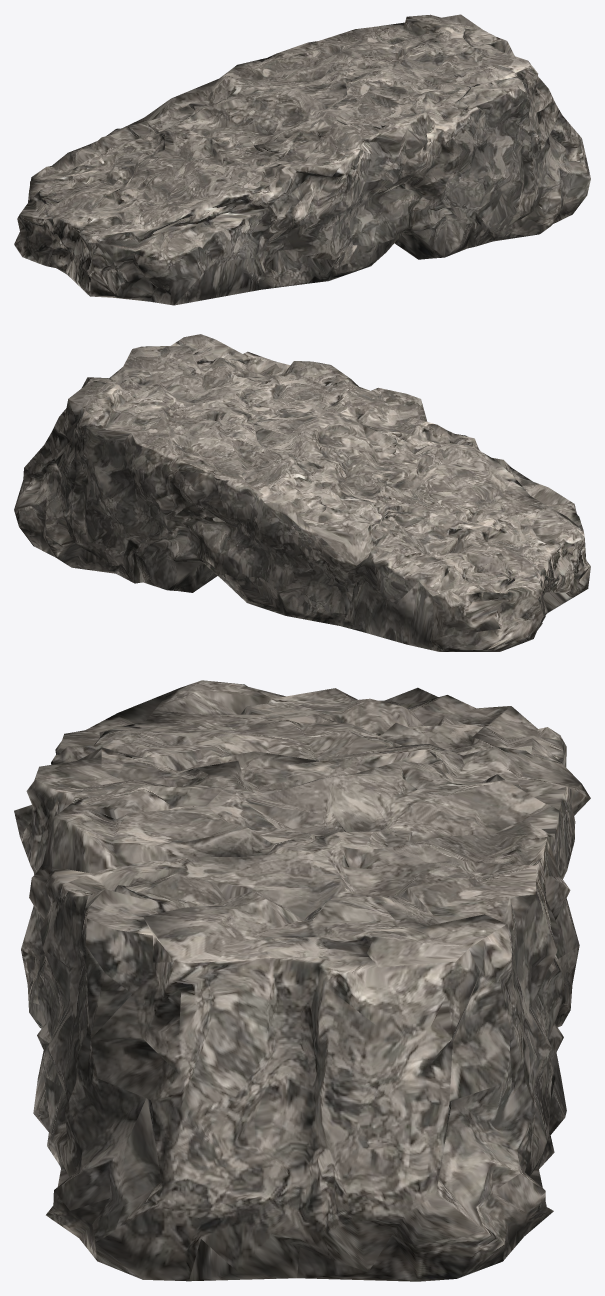
The model's file is slab_c_lod1.glb.
3 views of the same model, one above another, from view 1: azimuth 30°, elevation 25°; view 2: azimuth 150°, elevation 25°; view 3: azimuth 270°, elevation 25° (orthographic). The views are drawn at different scales.
Parts seen in each view (by area): view 1: slab_c_lod1; view 2: slab_c_lod1; view 3: slab_c_lod1.
Boxes of the visible parts, x1,y1,x2,y2 form: slab_c_lod1: [14, 14, 590, 305]; slab_c_lod1: [14, 334, 590, 651]; slab_c_lod1: [14, 680, 590, 1281].
Size of the model in its own units: 8 by 2.2 by 3.99.
1 material, 1 textured.
